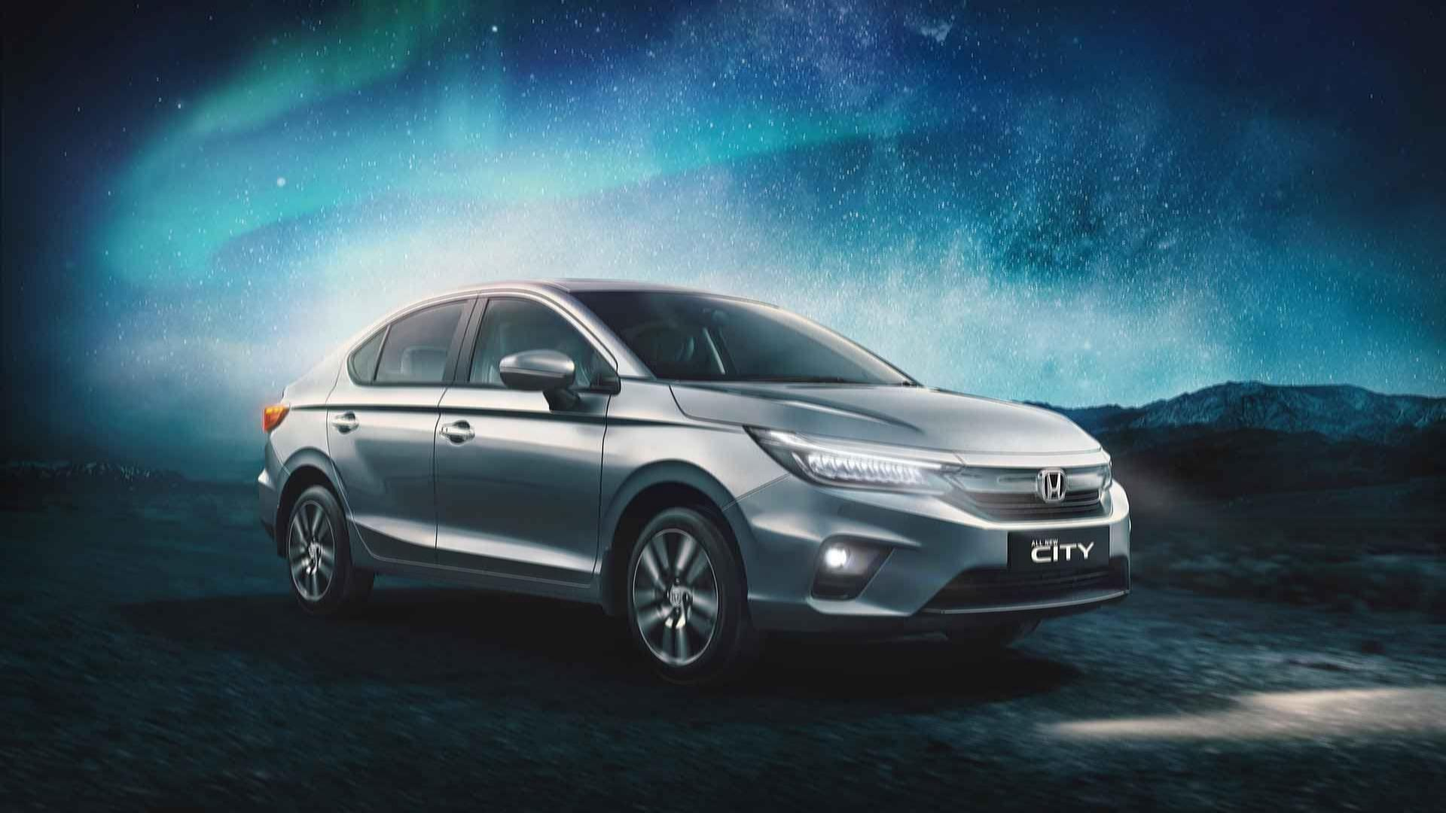Car hood: (653, 368, 1111, 476)
Driver-s door - -F-R-: (421, 260, 615, 596)
Fender - -F-R-: (594, 368, 791, 581)
Fender - -R-R-: (264, 318, 378, 512)
Front bumper: (693, 459, 1137, 649)
Headlight - -R-: (747, 422, 963, 498)
Passenger-s door - -R-R-: (316, 265, 480, 592)
Rear bumper: (248, 433, 295, 551)
Rear light - -R-: (255, 392, 295, 443)
Side bumper - -R-: (333, 508, 618, 625)
Side mirror - -R-: (498, 344, 590, 421)
